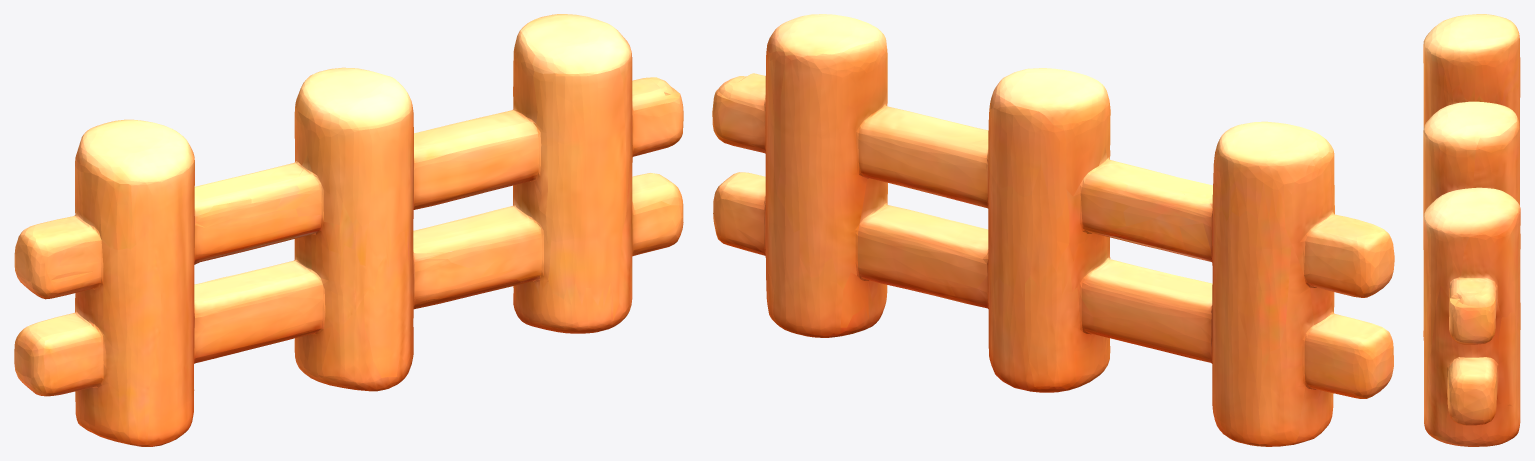
The model's file is fence.glb.
The picture shows the model from 3 angles, left to right: view 1: azimuth 30°, elevation 25°; view 2: azimuth 150°, elevation 25°; view 3: azimuth 270°, elevation 25°; orthographic projection. The views are drawn at different scales.
Visible parts, largest first — view 1: tripo_mesh_cafcc838-6b7c-45ab-82f7-036f70288962; view 2: tripo_mesh_cafcc838-6b7c-45ab-82f7-036f70288962; view 3: tripo_mesh_cafcc838-6b7c-45ab-82f7-036f70288962.
Part boxes in pixels (x1=…): tripo_mesh_cafcc838-6b7c-45ab-82f7-036f70288962: x1=14, y1=14, x2=683, y2=446; tripo_mesh_cafcc838-6b7c-45ab-82f7-036f70288962: x1=712, y1=14, x2=1394, y2=446; tripo_mesh_cafcc838-6b7c-45ab-82f7-036f70288962: x1=1423, y1=14, x2=1520, y2=446.
Bounding box in the file's own units: 2.39 × 1 × 0.3795.
1 material, 1 textured.
